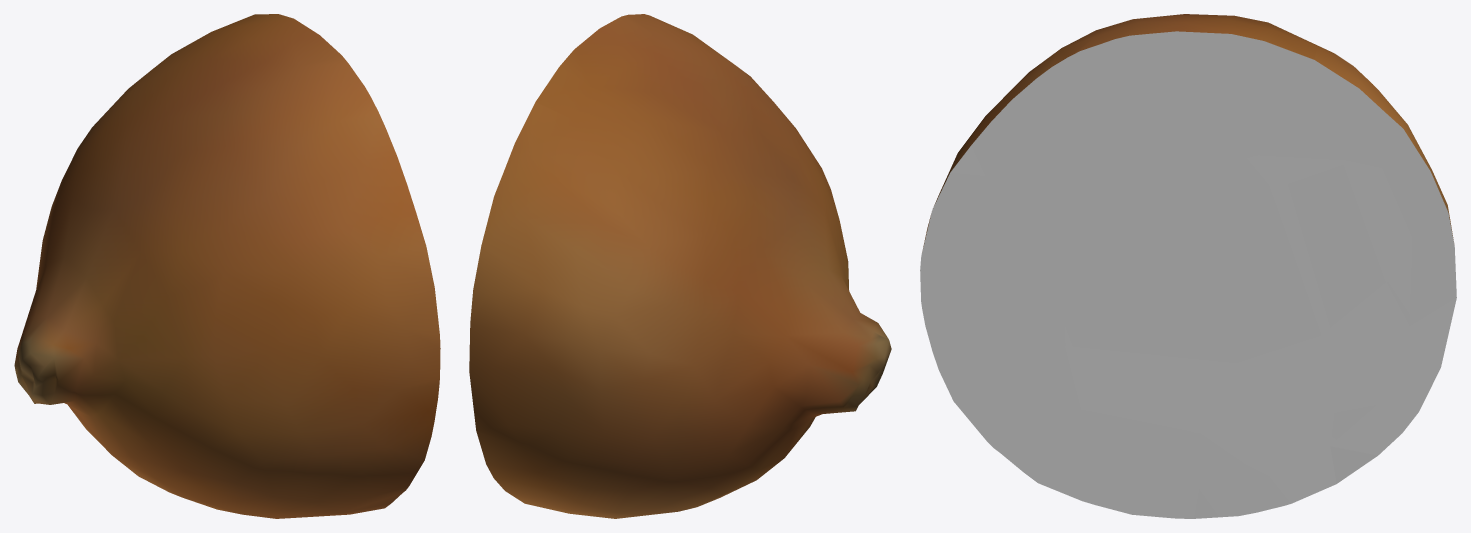
Rendered from Onion1.fbx.
3 views of the same model, side by side, from view 1: azimuth 30°, elevation 25°; view 2: azimuth 150°, elevation 25°; view 3: azimuth 270°, elevation 25° (orthographic). The views are drawn at different scales.
Visible parts, largest first — view 1: onion; view 2: onion; view 3: onion.002, onion.
Boxes of the visible parts, <box> form: onion: <box>14,14,440,518</box>; onion: <box>469,14,891,518</box>; onion.002: <box>920,31,1456,518</box>; onion: <box>923,14,1453,246</box>.
Size of the model in its own units: 5.79 by 8.64 by 8.61.
